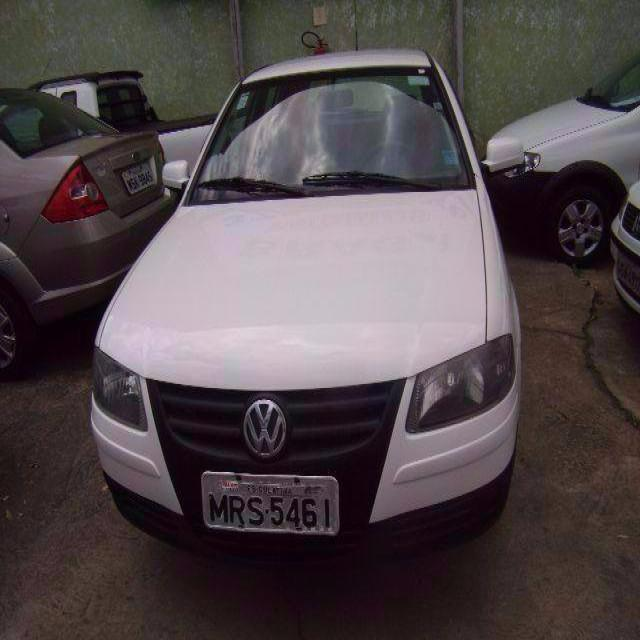Placa: (197, 467, 344, 540)
